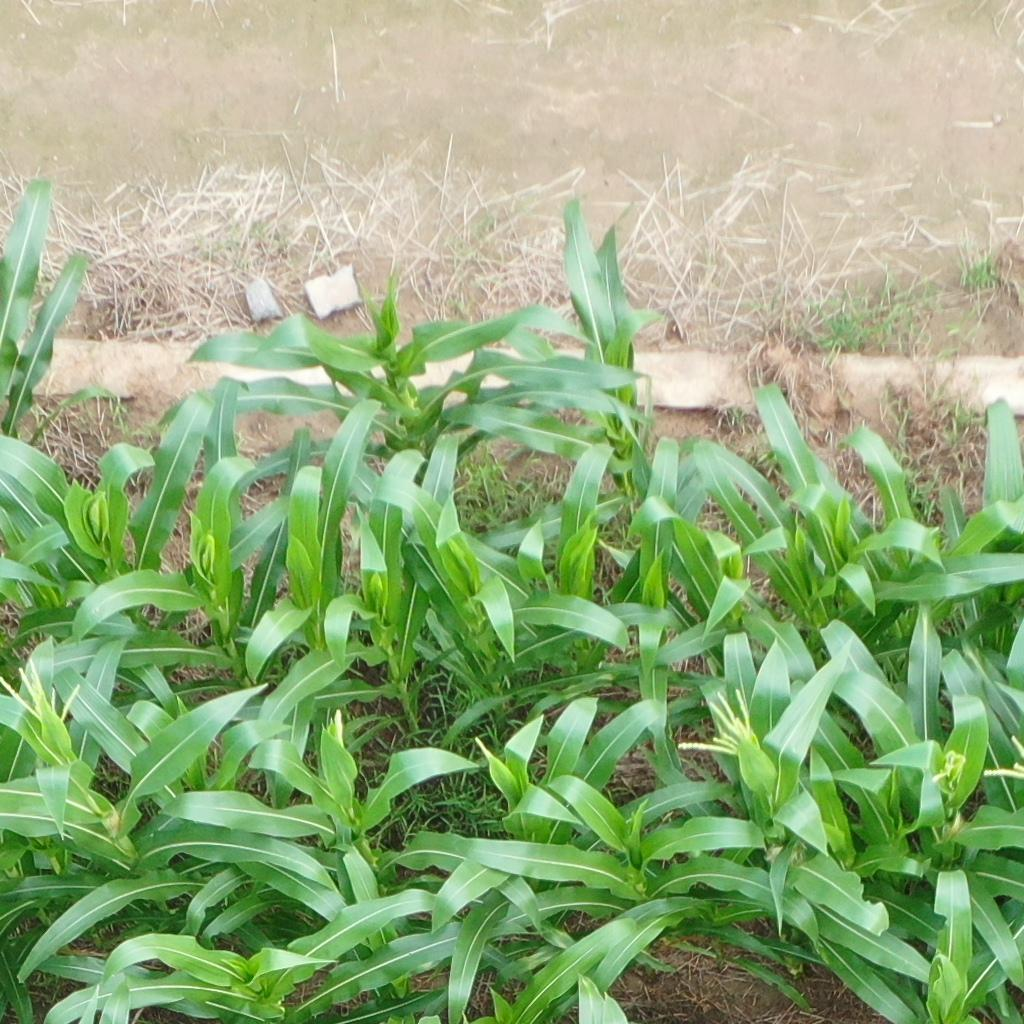Tassel: (1, 656, 81, 732), (677, 684, 752, 756), (983, 727, 1024, 784), (929, 746, 967, 789)
